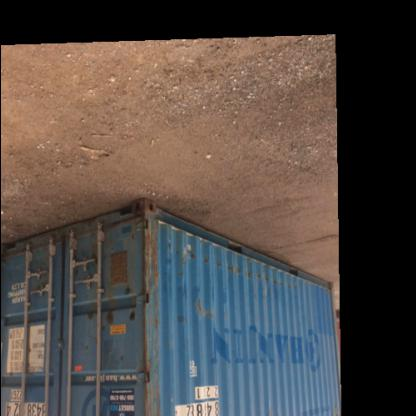Damage: (179, 254, 297, 288), (136, 288, 166, 370), (141, 363, 165, 415), (139, 222, 156, 286), (185, 298, 221, 322), (95, 308, 117, 330), (80, 249, 104, 269), (112, 282, 132, 298), (84, 303, 95, 325), (120, 309, 134, 323)
